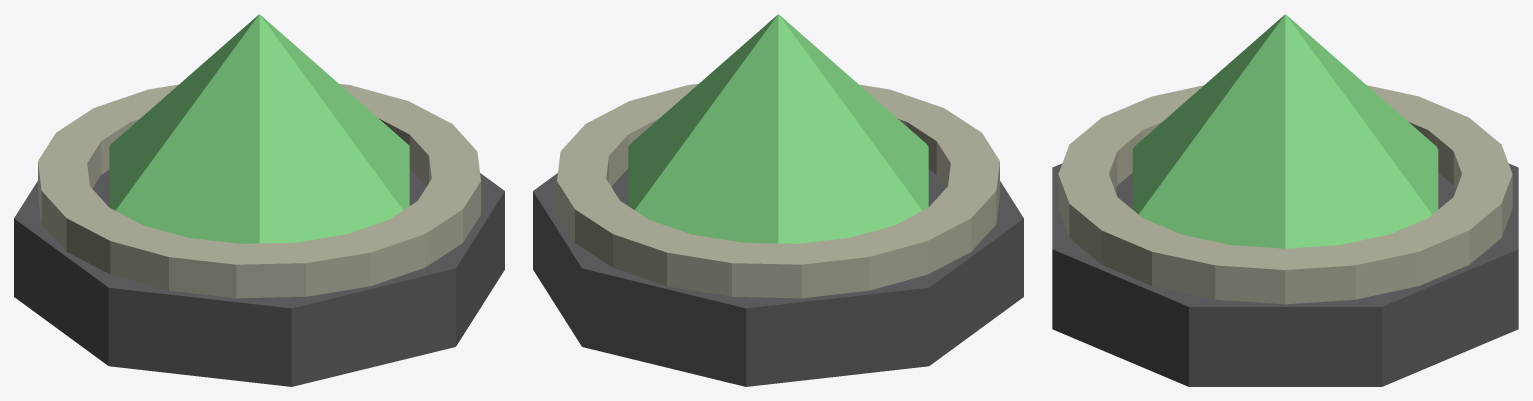
File: vge_mech_nav_beacon.obj
3 renders of one model, left to right at view 1: azimuth 30°, elevation 25°; view 2: azimuth 150°, elevation 25°; view 3: azimuth 270°, elevation 25°, orthographic.
Parts seen in each view (by area): view 1: vge_mech_nav_beacon_2, vge_mech_nav_beacon_0, vge_mech_nav_beacon_1; view 2: vge_mech_nav_beacon_2, vge_mech_nav_beacon_0, vge_mech_nav_beacon_1; view 3: vge_mech_nav_beacon_2, vge_mech_nav_beacon_0, vge_mech_nav_beacon_1.
Boxes of the visible parts, bbox=[...] form: vge_mech_nav_beacon_2: bbox=[109, 14, 409, 243]; vge_mech_nav_beacon_0: bbox=[14, 168, 504, 386]; vge_mech_nav_beacon_1: bbox=[38, 84, 480, 298]; vge_mech_nav_beacon_2: bbox=[628, 14, 928, 243]; vge_mech_nav_beacon_0: bbox=[533, 168, 1023, 386]; vge_mech_nav_beacon_1: bbox=[557, 84, 999, 298]; vge_mech_nav_beacon_2: bbox=[1132, 14, 1438, 248]; vge_mech_nav_beacon_0: bbox=[1052, 163, 1518, 386]; vge_mech_nav_beacon_1: bbox=[1058, 85, 1512, 304].
Bounding box in the file's own units: 0.7392 × 0.48 × 0.7392.
